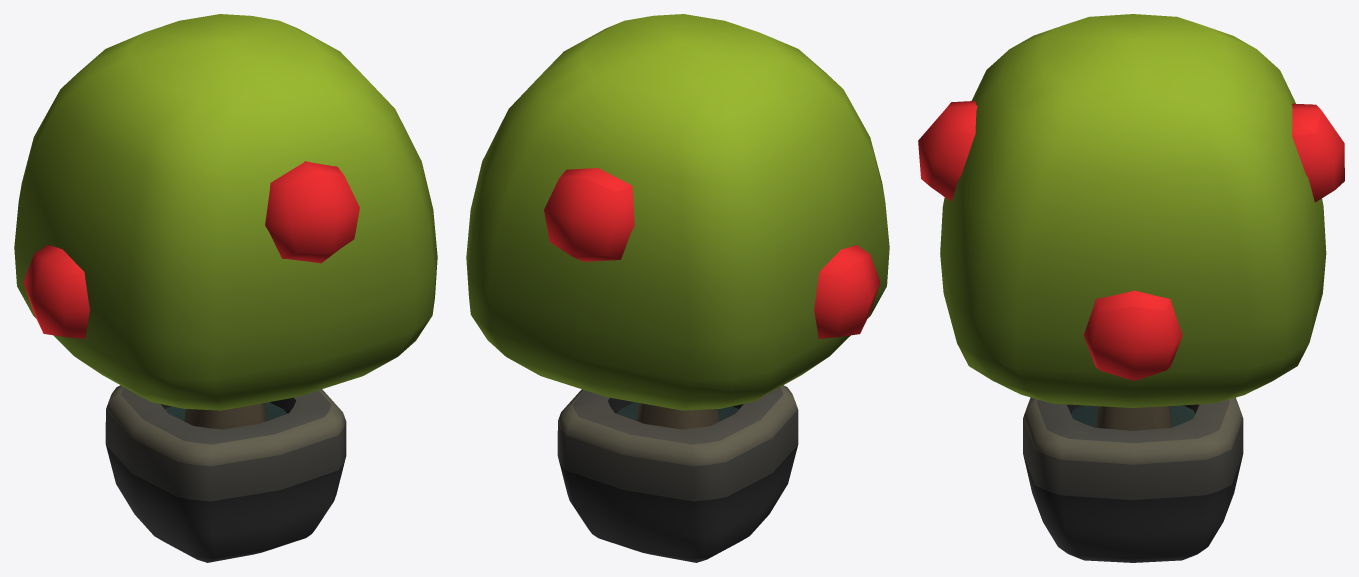
Rendered from plant1_LOD_setup.fbx.
The picture shows the model from 3 angles, left to right: view 1: azimuth 30°, elevation 25°; view 2: azimuth 150°, elevation 25°; view 3: azimuth 270°, elevation 25°; orthographic projection.
Visible parts, largest first — view 1: plant1_LOD0; view 2: plant1_LOD0; view 3: plant1_LOD0.
Boxes of the visible parts, x1,y1,x2,y2 form: plant1_LOD0: (14,14,437,562); plant1_LOD0: (466,14,889,562); plant1_LOD0: (918,14,1344,562).
Size of what is drawn, in the model's own units: 86.22 by 105 by 81.19.
